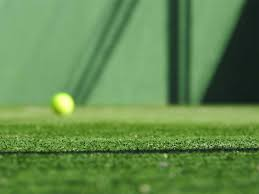tennis_ball: (49, 92, 75, 118)
